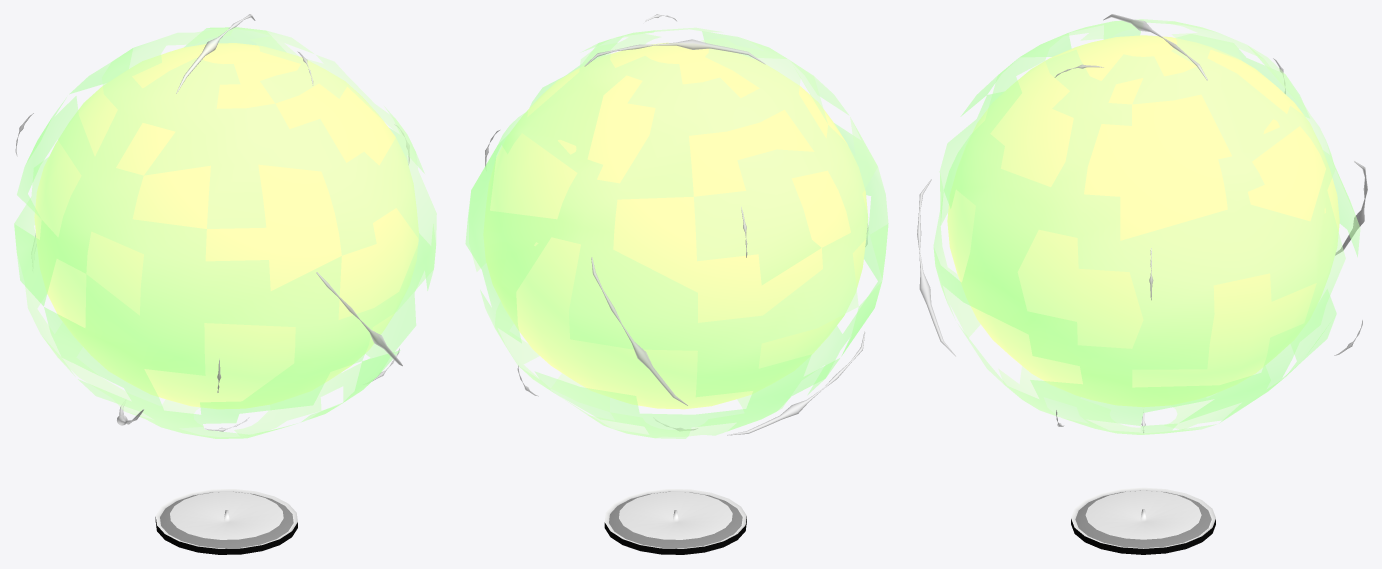
The model's file is Alien core.fbx.
The picture shows the model from 3 angles, left to right: view 1: azimuth 30°, elevation 25°; view 2: azimuth 150°, elevation 25°; view 3: azimuth 270°, elevation 25°; orthographic projection.
Parts seen in each view (by area): view 1: pSphere1, pSphere2, pCylinder1, pCylinder11; view 2: pSphere1, pSphere2, pCylinder1, pCylinder10, pCylinder9, pCylinder12; view 3: pSphere1, pSphere2, pCylinder1, pCylinder11.
Part boxes in pixels (bbox=[...]): pSphere1: bbox=[34, 43, 418, 409]; pSphere2: bbox=[14, 27, 436, 438]; pCylinder1: bbox=[155, 489, 297, 554]; pCylinder11: bbox=[316, 272, 402, 366]; pSphere1: bbox=[483, 42, 868, 409]; pSphere2: bbox=[465, 27, 888, 438]; pCylinder1: bbox=[604, 489, 746, 554]; pCylinder10: bbox=[584, 39, 765, 66]; pCylinder9: bbox=[591, 257, 687, 405]; pCylinder12: bbox=[727, 331, 865, 435]; pSphere1: bbox=[947, 35, 1339, 407]; pSphere2: bbox=[933, 19, 1360, 434]; pCylinder1: bbox=[1071, 487, 1215, 554]; pCylinder11: bbox=[917, 179, 956, 356].
Size of the model in its own units: 5.97 by 7.54 by 6.22.
